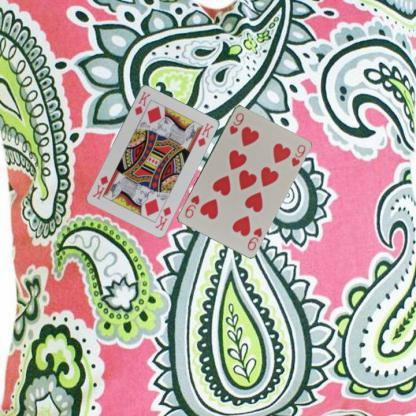9h: (226, 110, 245, 136), (244, 225, 262, 252)
Kd: (152, 204, 172, 232), (132, 89, 152, 116)
